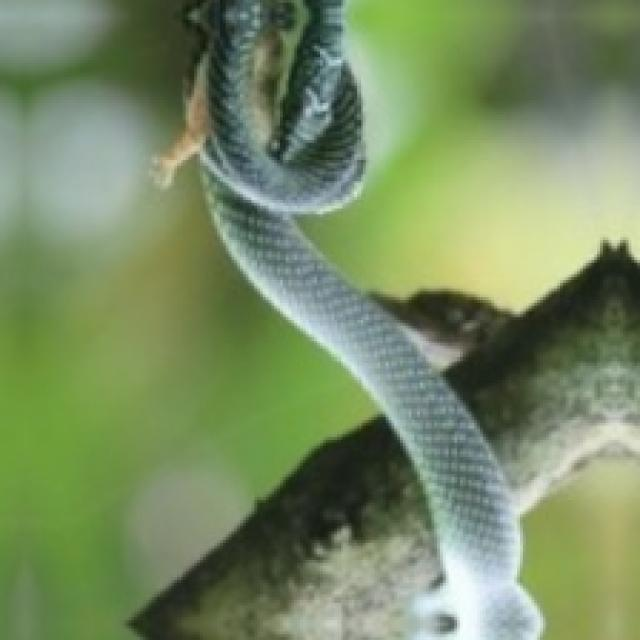paradise tree snake: (131, 0, 637, 637), (157, 0, 540, 637)
